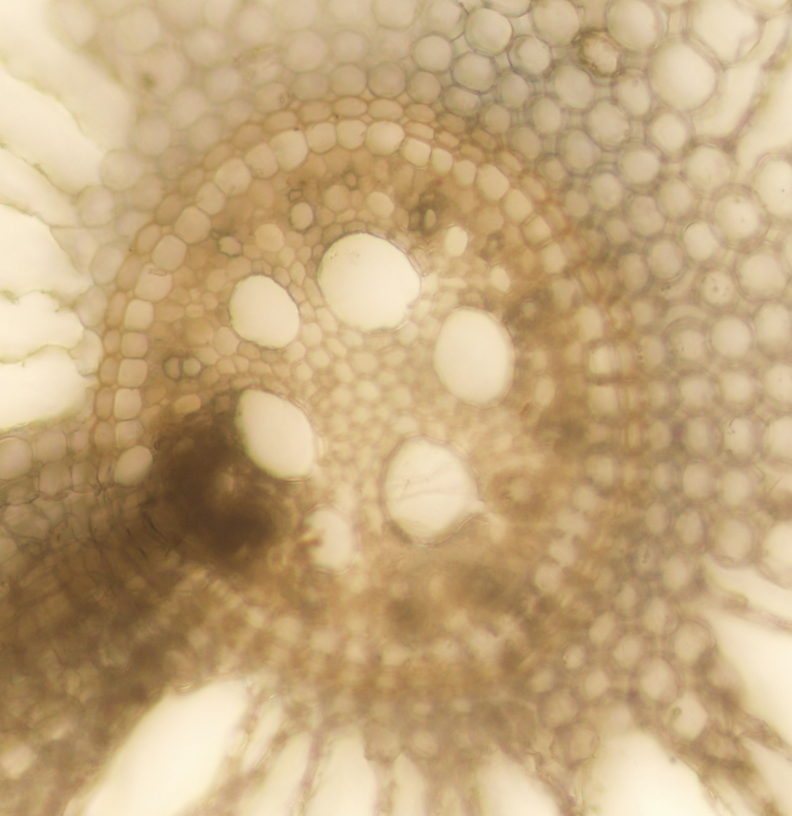lm: (381, 434, 487, 547), (318, 231, 422, 331), (232, 385, 317, 482), (435, 306, 514, 402), (226, 272, 302, 349)
